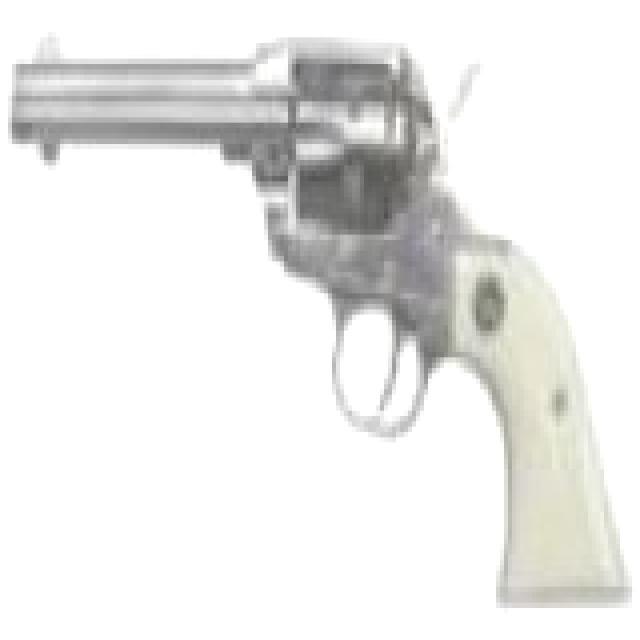pistol: (16, 27, 628, 597)
